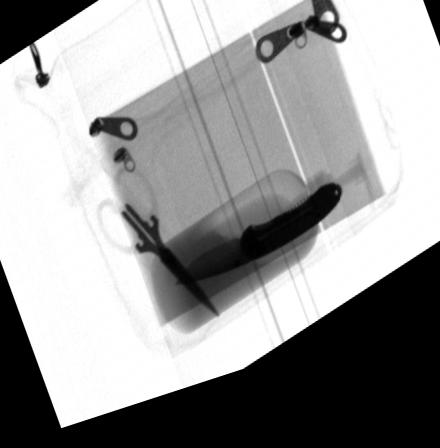Knife: (173, 204, 341, 297)
Scissors: (94, 172, 221, 331)
